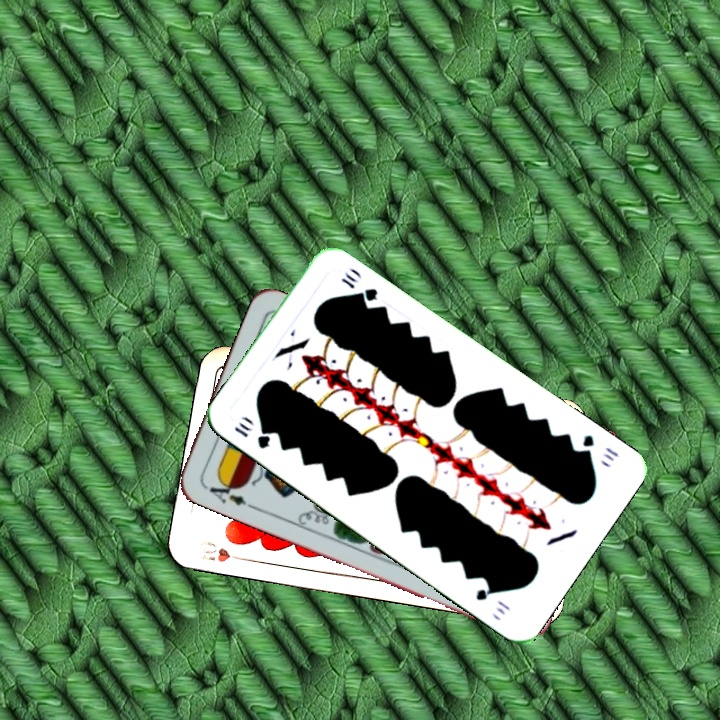EA: (205, 474, 256, 511)
G10: (576, 430, 622, 464), (230, 419, 273, 452)
H10: (195, 537, 250, 565)
